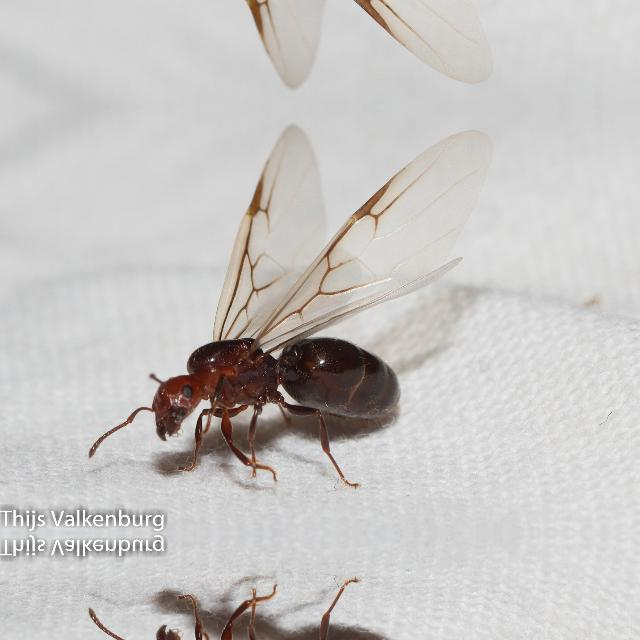Crematogaster: (115, 295, 393, 485), (115, 580, 393, 640)
